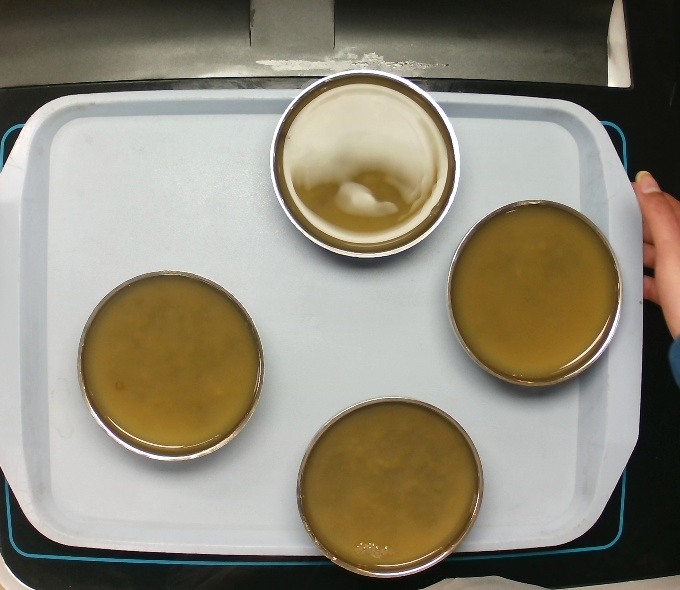wcq-LvDouTang: (79, 277, 262, 453), (299, 401, 480, 572), (451, 200, 620, 379), (277, 80, 455, 242)
